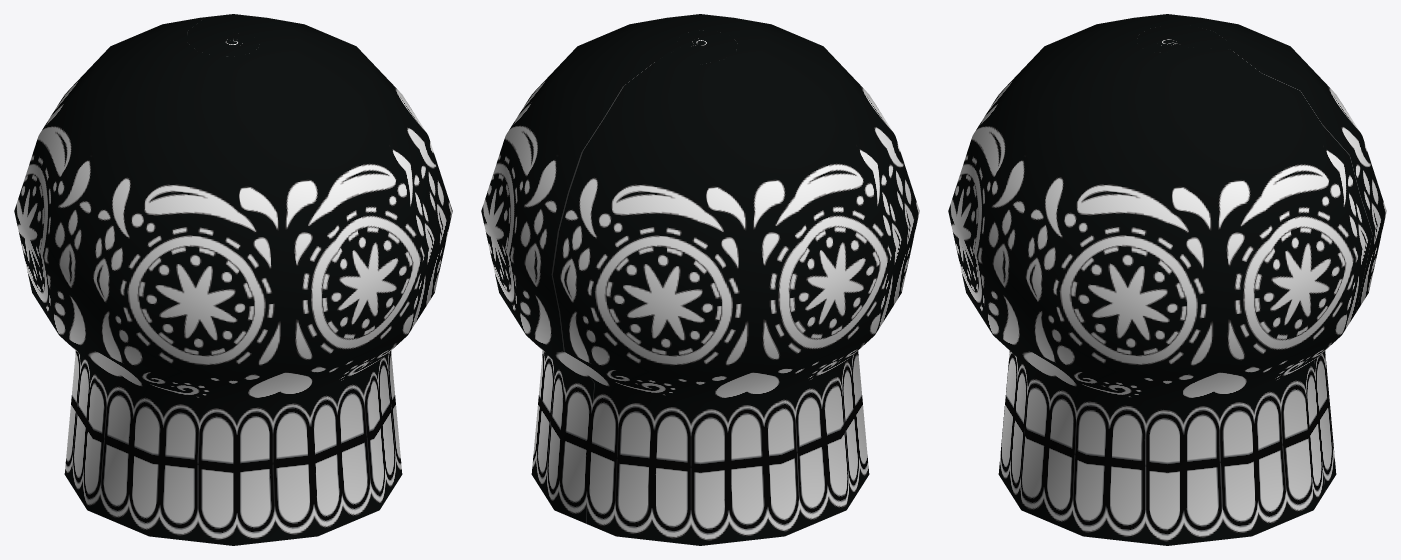
File: bigSkullHead.fbx
3 renders of one model, left to right at view 1: azimuth 30°, elevation 25°; view 2: azimuth 150°, elevation 25°; view 3: azimuth 270°, elevation 25°, orthographic.
Parts seen in each view (by area): view 1: revolvedSurface1; view 2: revolvedSurface1; view 3: revolvedSurface1.
Boxes of the visible parts, <box> form: revolvedSurface1: <box>14,14,452,545</box>; revolvedSurface1: <box>481,14,919,545</box>; revolvedSurface1: <box>948,14,1386,545</box>.
Size of the model in its own units: 12.85 by 13.97 by 12.85.
